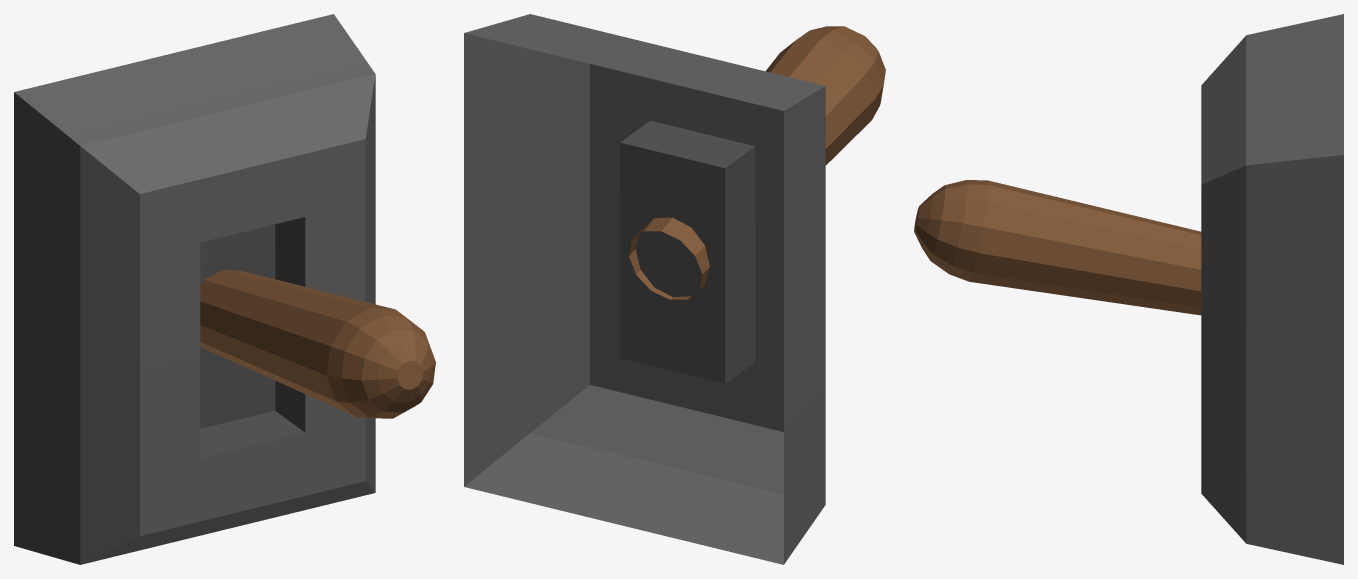
Rendered from Mini_Control_Button_2.fbx.
The picture shows the model from 3 angles, left to right: view 1: azimuth 30°, elevation 25°; view 2: azimuth 150°, elevation 25°; view 3: azimuth 270°, elevation 25°; orthographic projection. The views are drawn at different scales.
Parts seen in each view (by area): view 1: Mini_Control_Button_2, Mini_Control_Button_2.001; view 2: Mini_Control_Button_2, Mini_Control_Button_2.001; view 3: Mini_Control_Button_2, Mini_Control_Button_2.001.
Boxes of the visible parts, <box> form: Mini_Control_Button_2: <box>14,14,375,564</box>; Mini_Control_Button_2.001: <box>200,270,435,418</box>; Mini_Control_Button_2: <box>464,14,825,564</box>; Mini_Control_Button_2.001: <box>629,26,885,299</box>; Mini_Control_Button_2: <box>1201,14,1343,564</box>; Mini_Control_Button_2.001: <box>914,180,1201,315</box>.
Bounding box in the file's own units: 12.45 × 16.88 × 16.03.
Materials: 1 (1 with a texture image).
